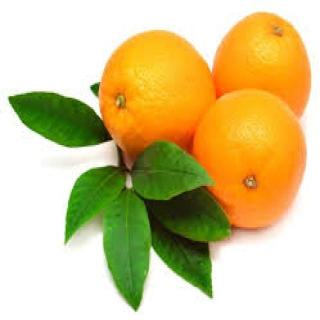orange: (190, 66, 306, 254), (102, 18, 214, 192), (209, 22, 320, 136)
